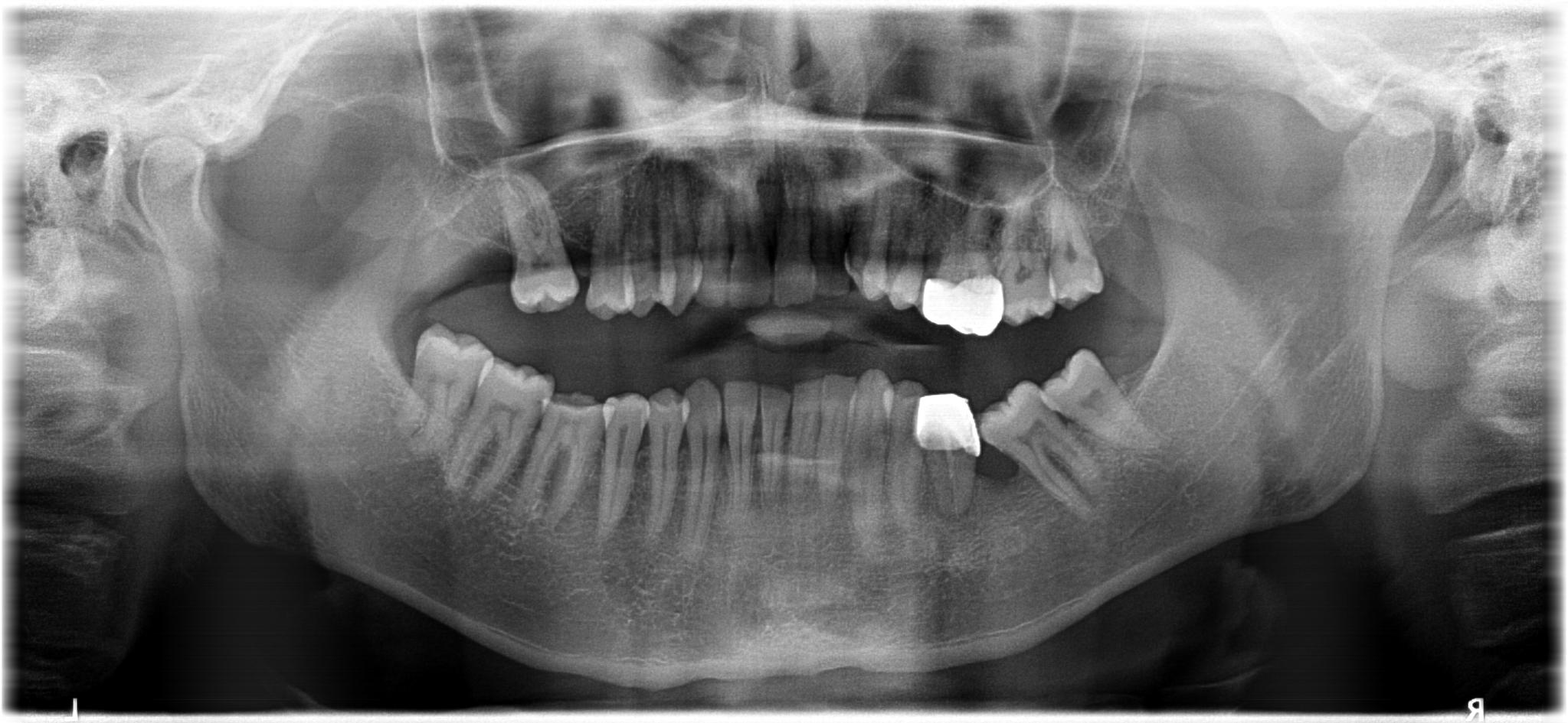Premolars: (498, 266, 1469, 660), (284, 181, 819, 583), (563, 154, 1568, 350)
